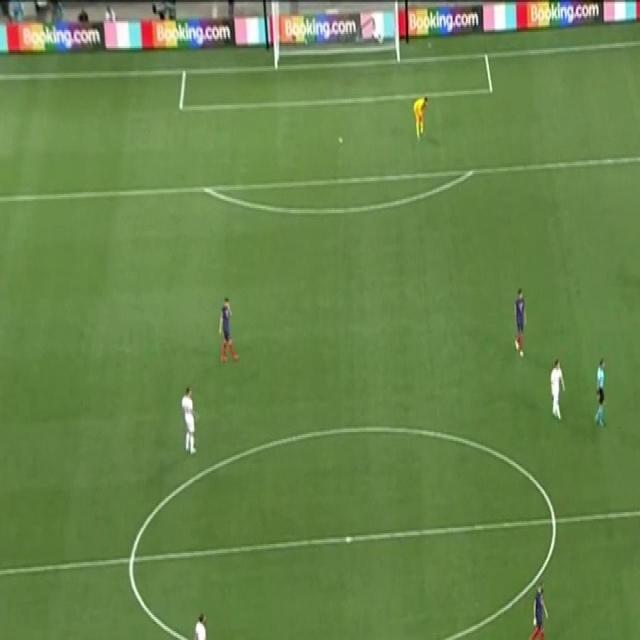player-white: (219, 296, 241, 364), (180, 386, 198, 455), (528, 581, 549, 640), (549, 357, 566, 421), (593, 357, 607, 429), (513, 287, 527, 358), (412, 93, 430, 140), (191, 609, 218, 640)
